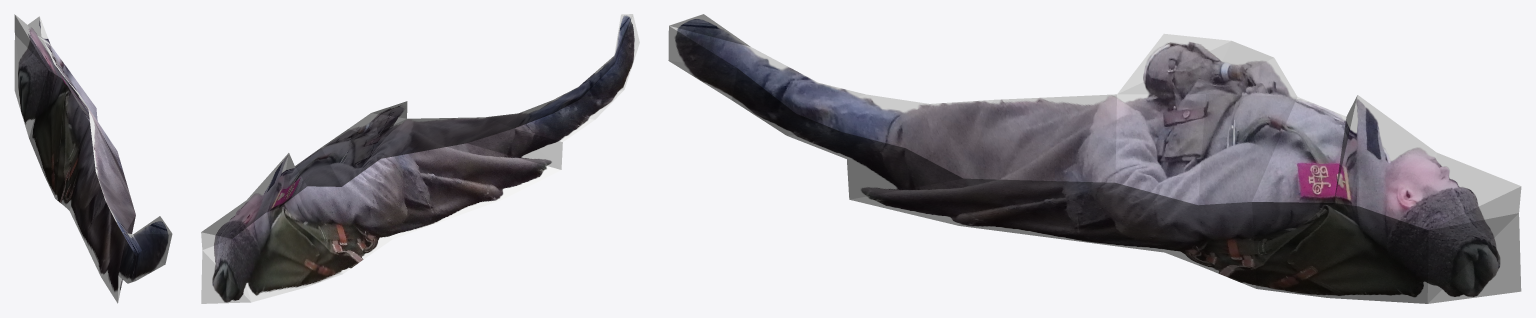
Rendered from Dead_Man_01.fbx.
3 renders of one model, left to right at view 1: azimuth 30°, elevation 25°; view 2: azimuth 150°, elevation 25°; view 3: azimuth 270°, elevation 25°, orthographic. The views are drawn at different scales.
Visible parts, largest first — view 1: Dead_Man_01; view 2: Dead_Man_01; view 3: Dead_Man_01.
Part boxes in pixels (bbox=[...]): Dead_Man_01: bbox=[14, 14, 172, 303]; Dead_Man_01: bbox=[201, 14, 639, 303]; Dead_Man_01: bbox=[668, 14, 1521, 303].
Bounding box in the file's own units: 0.3109 × 0.3062 × 1.01.
Materials: 1 (1 with a texture image).
